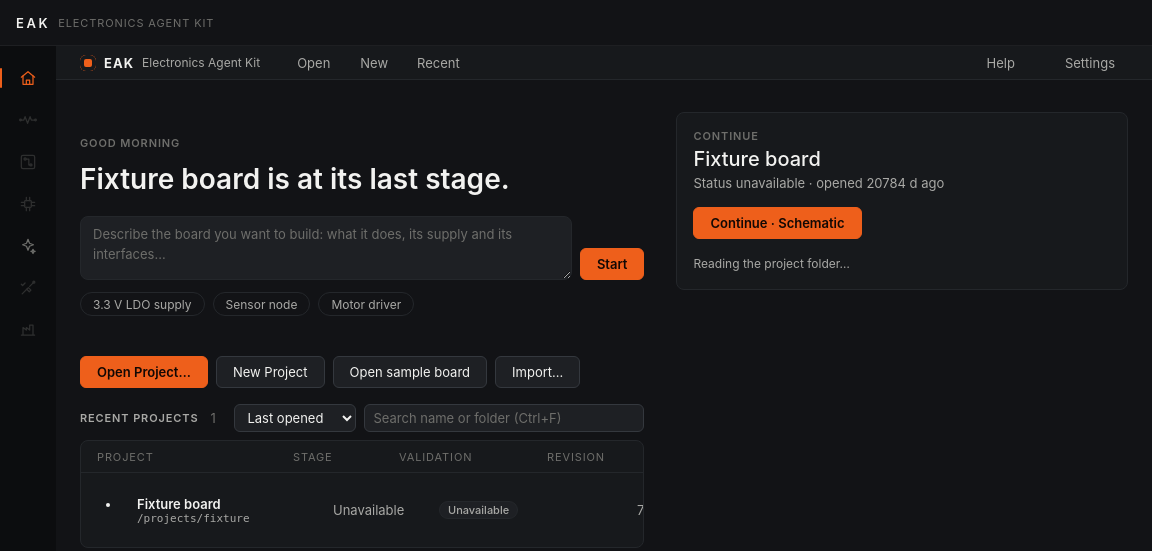
Test: first-run tour › shows on first launch, steps, can be skipped, and is replayed from Home's Help menu
The image size is (1152, 551).
Earlier steps of the test are not shown.
Check: the element "First-run tour" is not shown
Click the button "Help" at (1001, 62), box x1=974 y1=48 x2=1028 y2=76
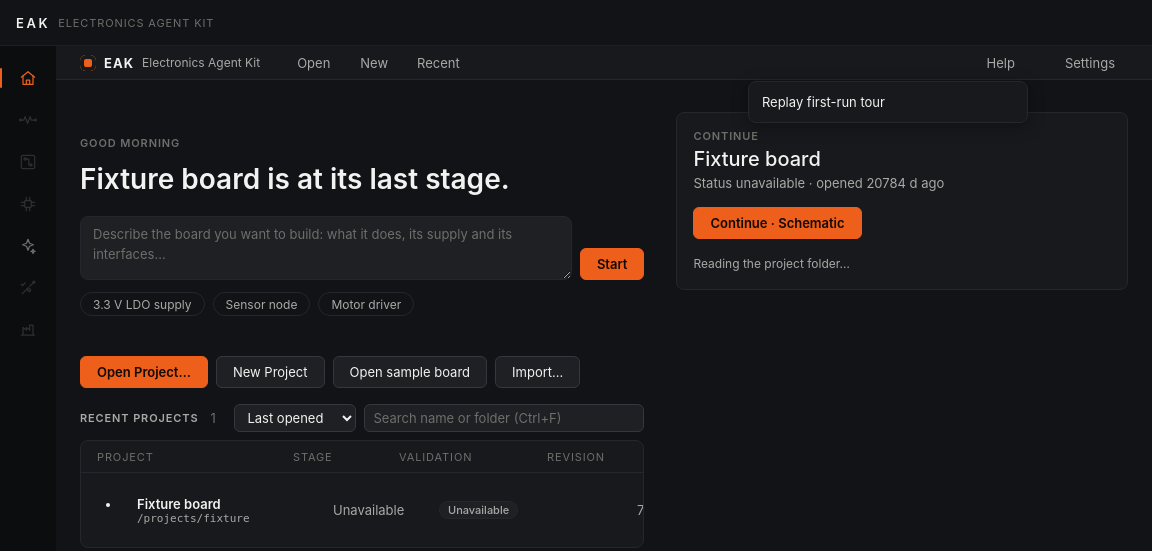
Click the menu item "Replay first-run tour" at (888, 102), box x1=753 y1=86 x2=1023 y2=118
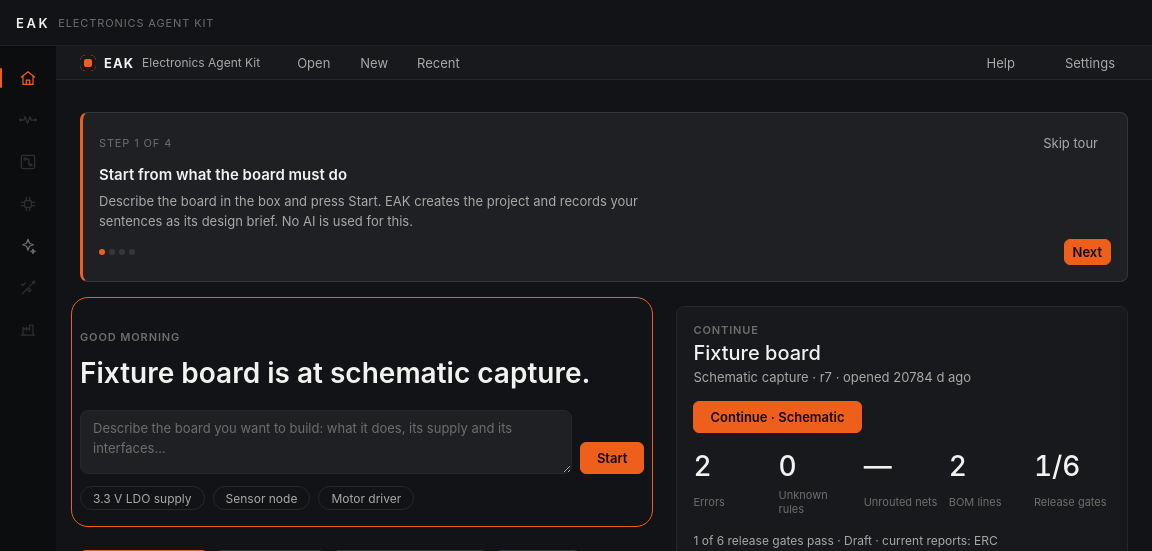
Click the button "Next" at (1087, 252), box x1=1064 y1=239 x2=1111 y2=265
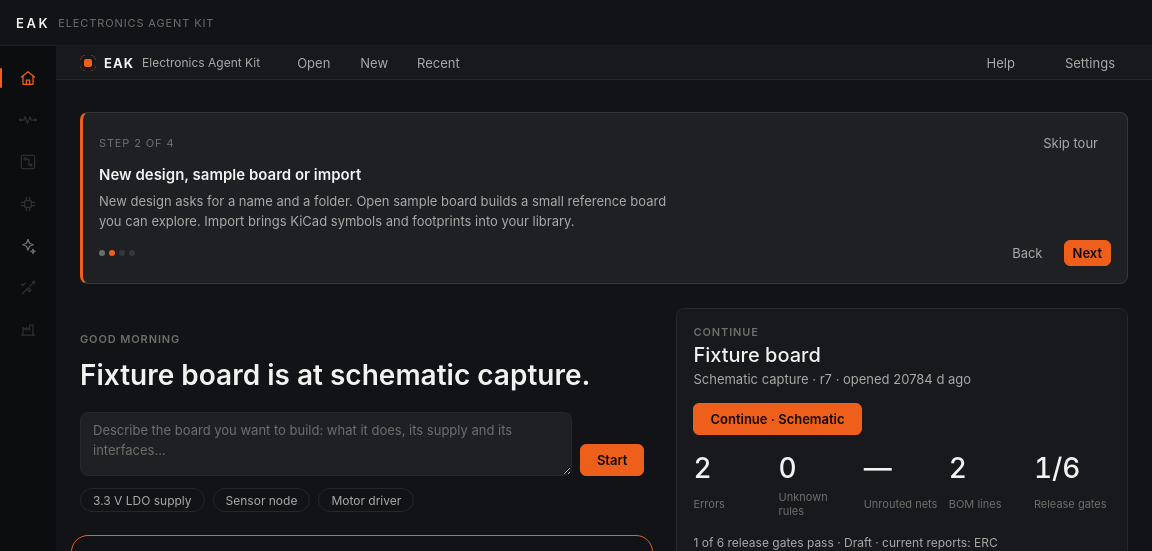
Click the button "Next" at (1087, 253), box x1=1064 y1=240 x2=1111 y2=266
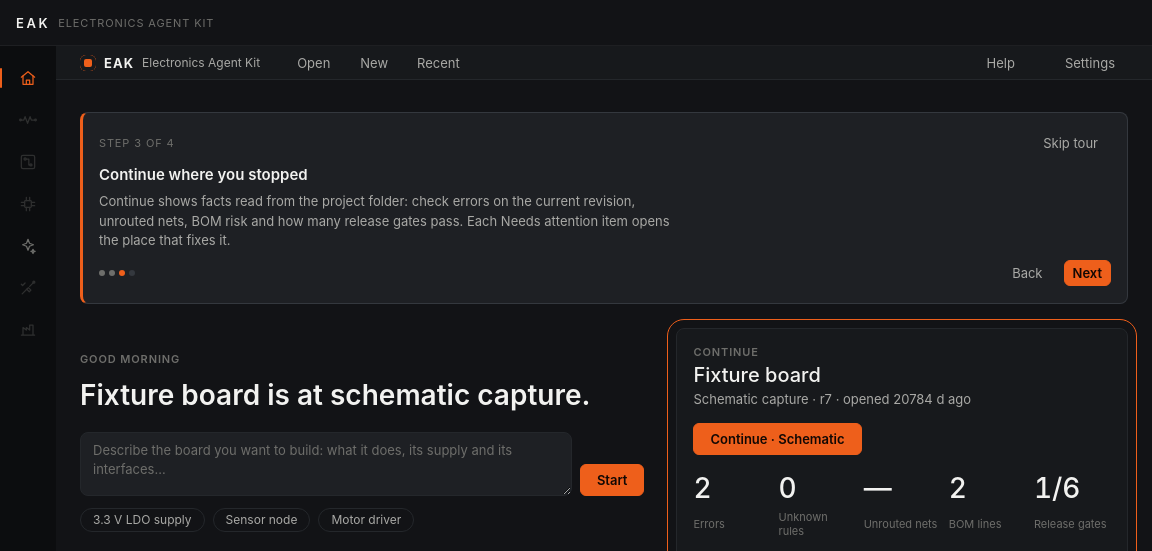
Click the button "Next" at (1087, 272), box x1=1064 y1=260 x2=1111 y2=286
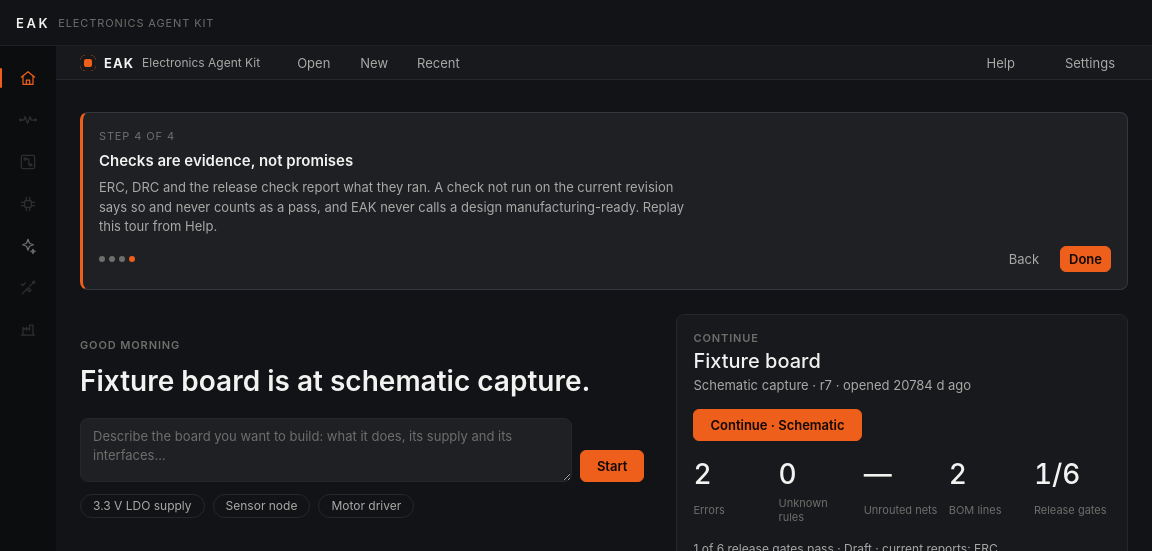
Check: the text "Step 4 of 4" is shown, box x1=99 y1=129 x2=175 y2=143
Click the button "Done" at (1086, 258), box x1=1060 y1=246 x2=1111 y2=272
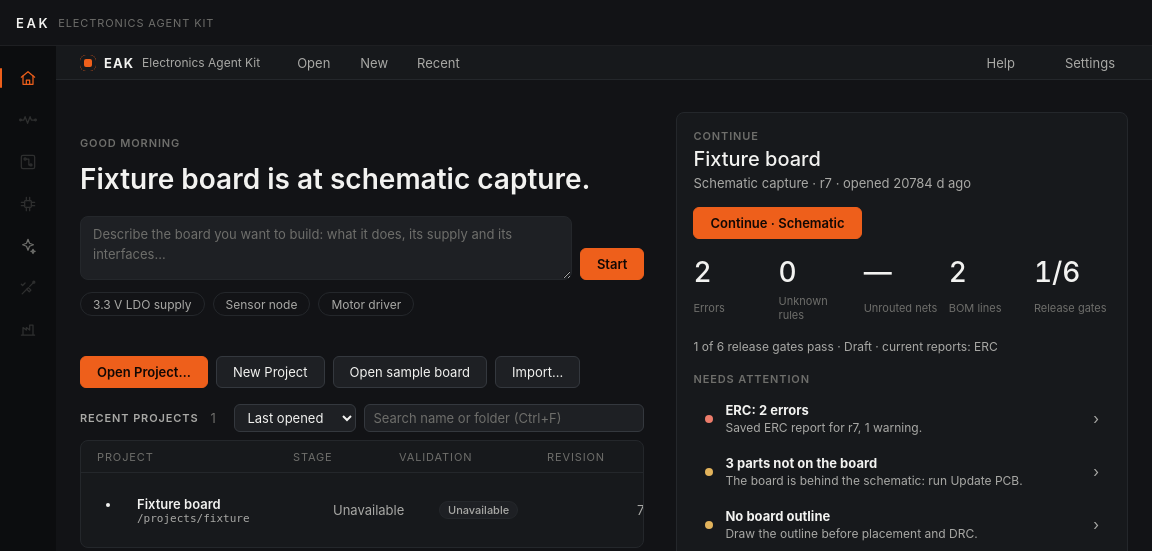
Check: the element "First-run tour" is gone
